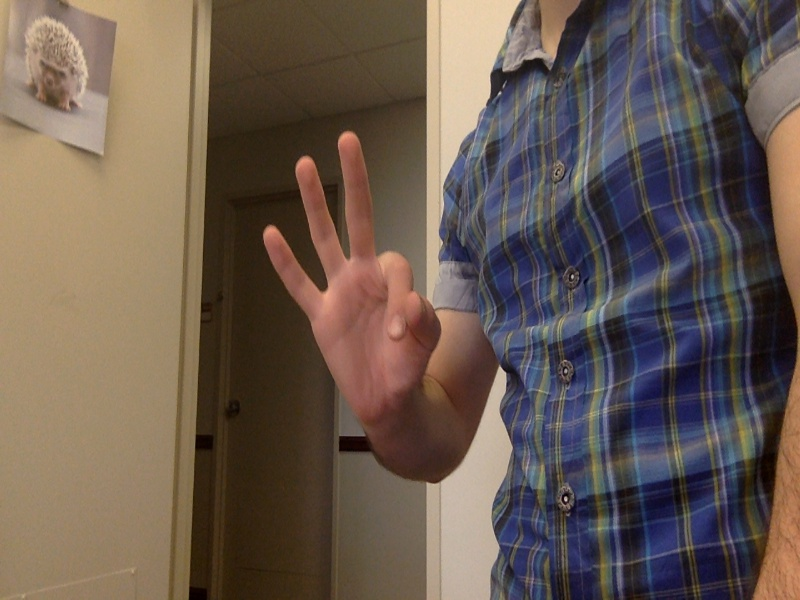3-hand: (263, 132, 438, 421)
